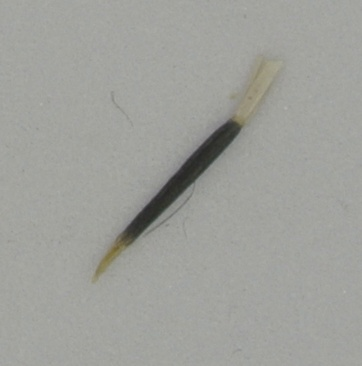เมล้ดปลายพู่กัน: (89, 54, 287, 288)
